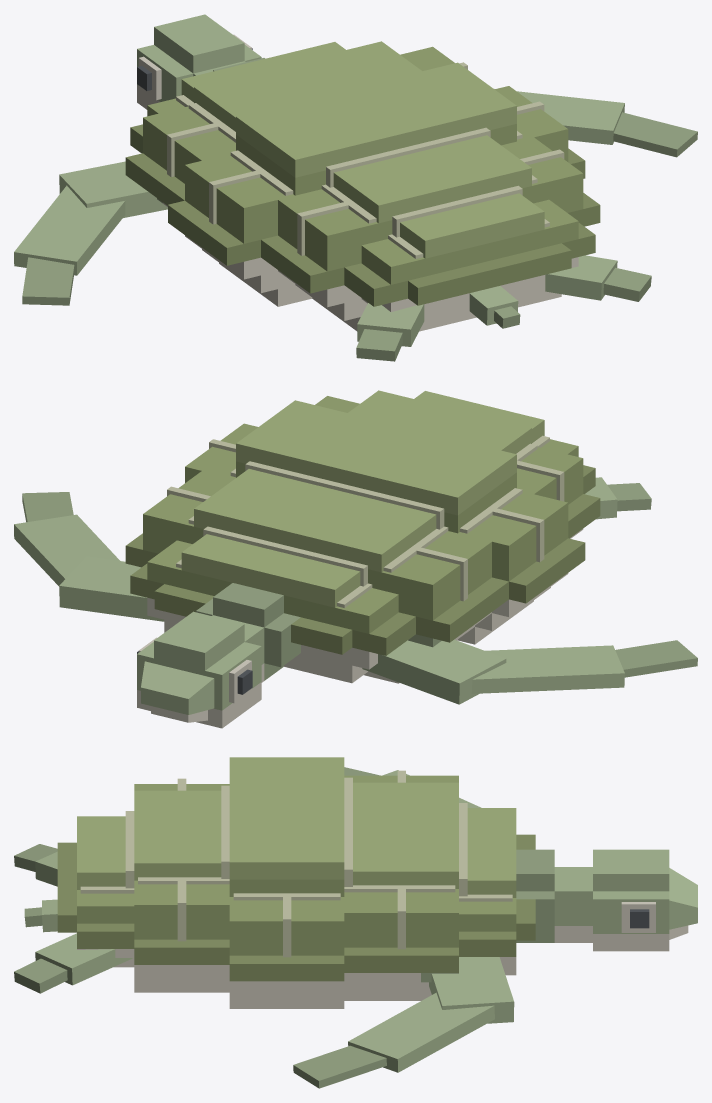
File: SeaTurtle.glb
The picture shows the model from 3 angles, top to bottom: view 1: azimuth 30°, elevation 25°; view 2: azimuth 150°, elevation 25°; view 3: azimuth 270°, elevation 25°; orthographic projection. The views are drawn at different scales.
Parts seen in each view (by area): view 1: Shell, FlipFL, Head, FlipFR, FlipBR, FlipBL; view 2: Shell, FlipFL, Head, FlipFR, FlipBL; view 3: Shell, Head, FlipFR, FlipBR, FlipBL.
Boxes of the visible parts, box(x1,y1,x2,y2) form: Shell: box(125, 41, 600, 331); FlipFL: box(14, 161, 167, 305); Head: box(137, 14, 261, 109); FlipFR: box(494, 89, 697, 157); FlipBR: box(545, 255, 651, 301); FlipBL: box(356, 303, 424, 361); Shell: box(125, 390, 600, 683); FlipFL: box(362, 639, 697, 704); Head: box(137, 611, 264, 728); FlipFR: box(14, 492, 164, 621); FlipBL: box(585, 477, 651, 519); Shell: box(24, 757, 554, 1008); Head: box(554, 849, 697, 951); FlipFR: box(293, 957, 514, 1088); FlipBR: box(14, 933, 132, 993); FlipBL: box(14, 844, 57, 886).
Size of the model in its own units: 15.84 by 3.2 by 14.32.
